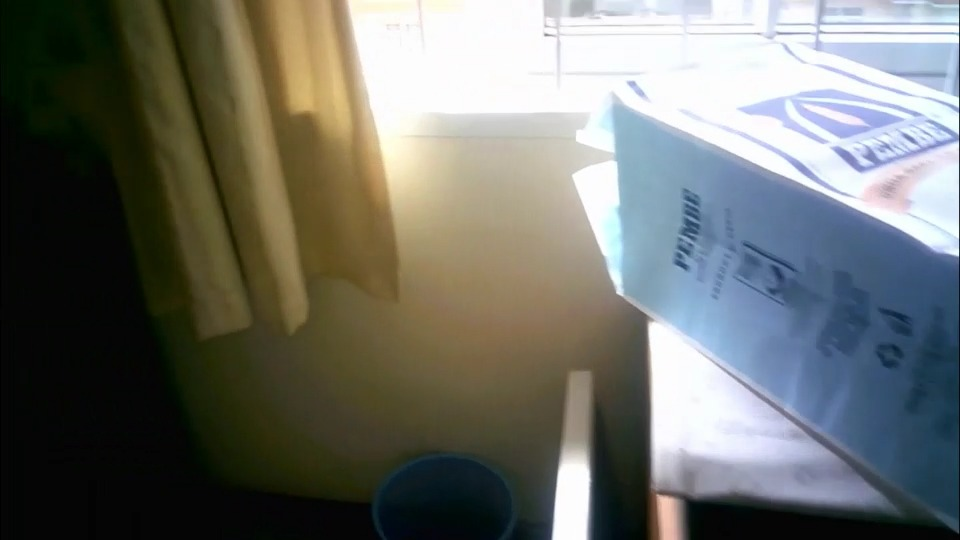wheat_flour_blue_label: (609, 42, 960, 530)
